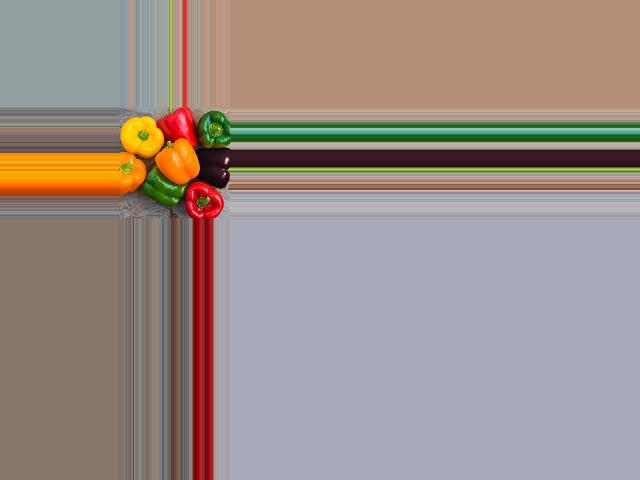bell_pepper: (119, 153, 155, 205)
